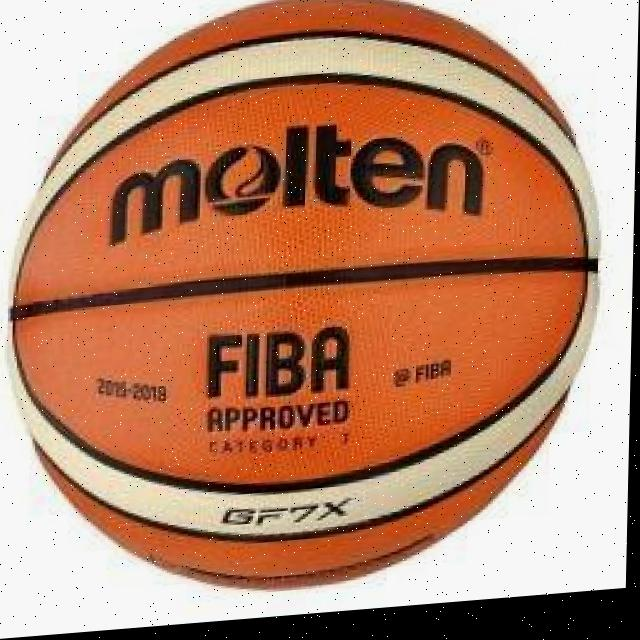Basketball: (0, 0, 609, 610)
